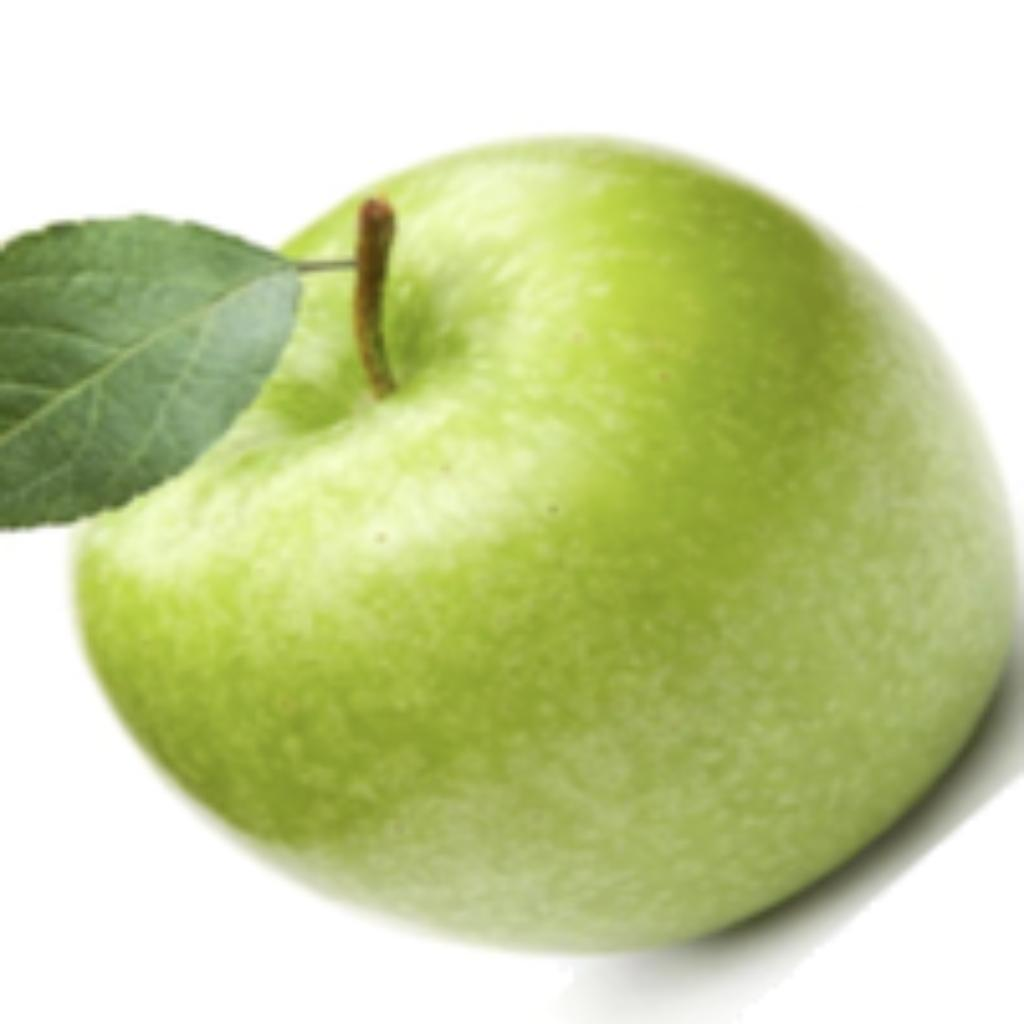apple: (0, 123, 1019, 1019)
